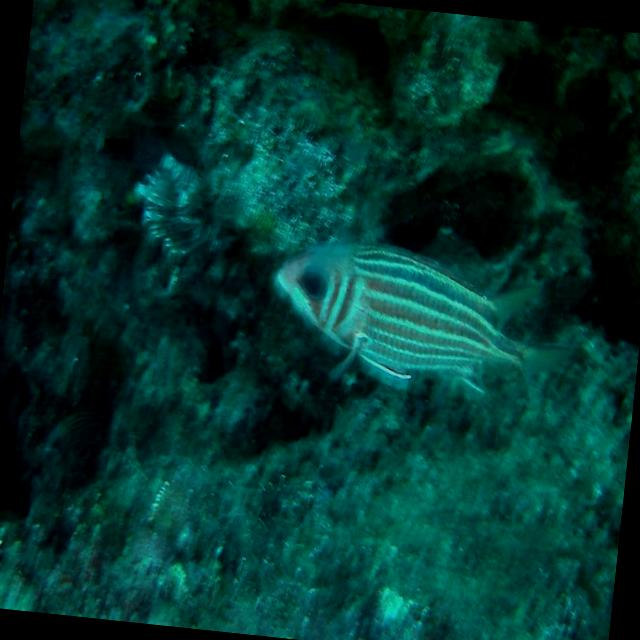Asker Baligi: (250, 200, 582, 436)
